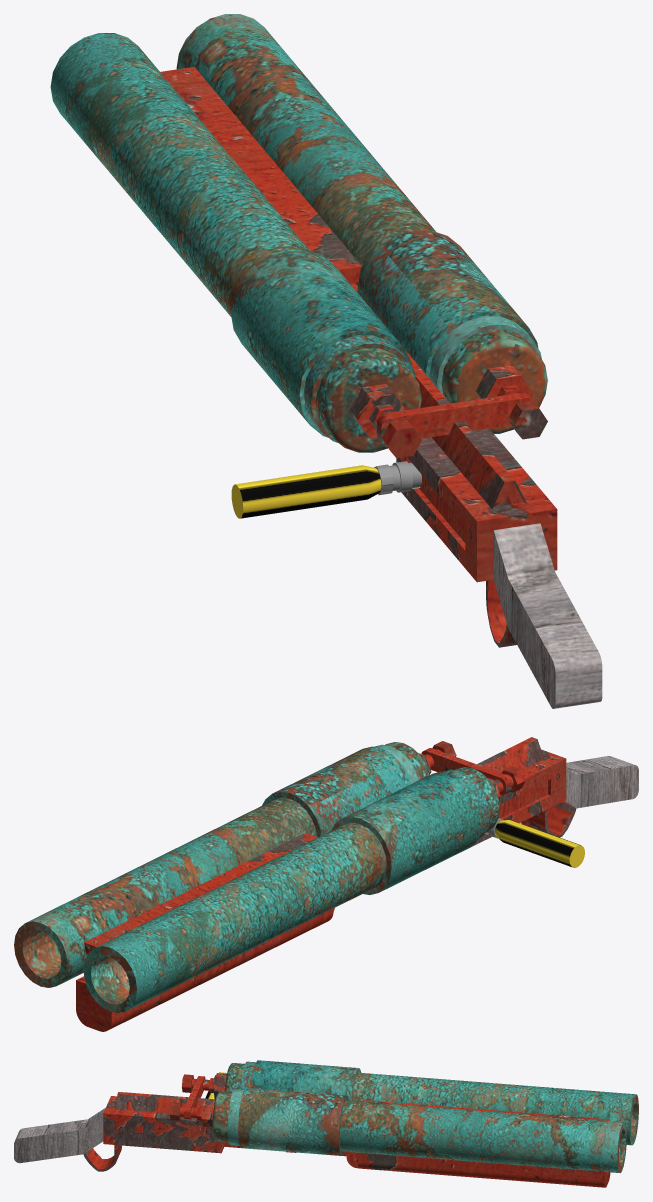
File: rust_double_barrel.glb
The picture shows the model from 3 angles, top to bottom: view 1: azimuth 30°, elevation 25°; view 2: azimuth 150°, elevation 25°; view 3: azimuth 270°, elevation 25°; orthographic projection. The views are drawn at different scales.
Visible parts, largest first — view 1: pCylinder15; view 2: pCylinder15; view 3: pCylinder15.
Boxes of the visible parts, <box> form: pCylinder15: <box>50,14,602,708</box>; pCylinder15: <box>14,737,638,1031</box>; pCylinder15: <box>14,1060,638,1187</box>.
Bounding box in the file's own units: 0.0727 × 0.0324 × 0.1814.
1 material, 1 textured.
